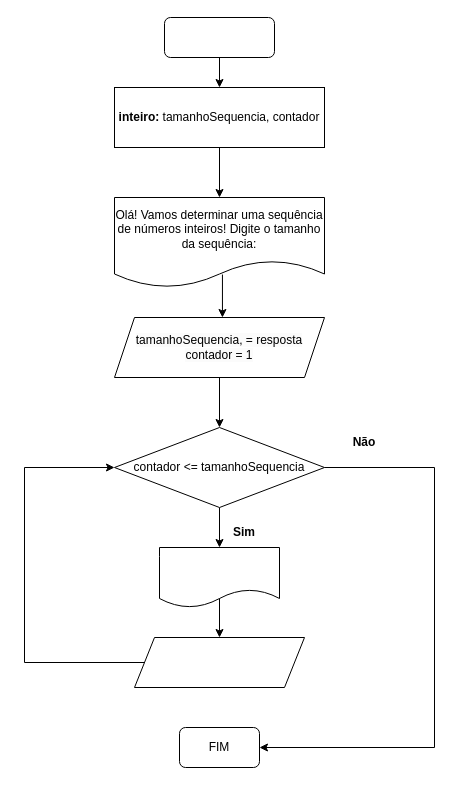
This 460x785 diagram has some shape labels left out. Each missing label, with the box of its shape:
contador: (158, 546, 280, 608)
contador = contador + 1: (134, 636, 304, 688)
INICIO: (164, 16, 274, 58)
